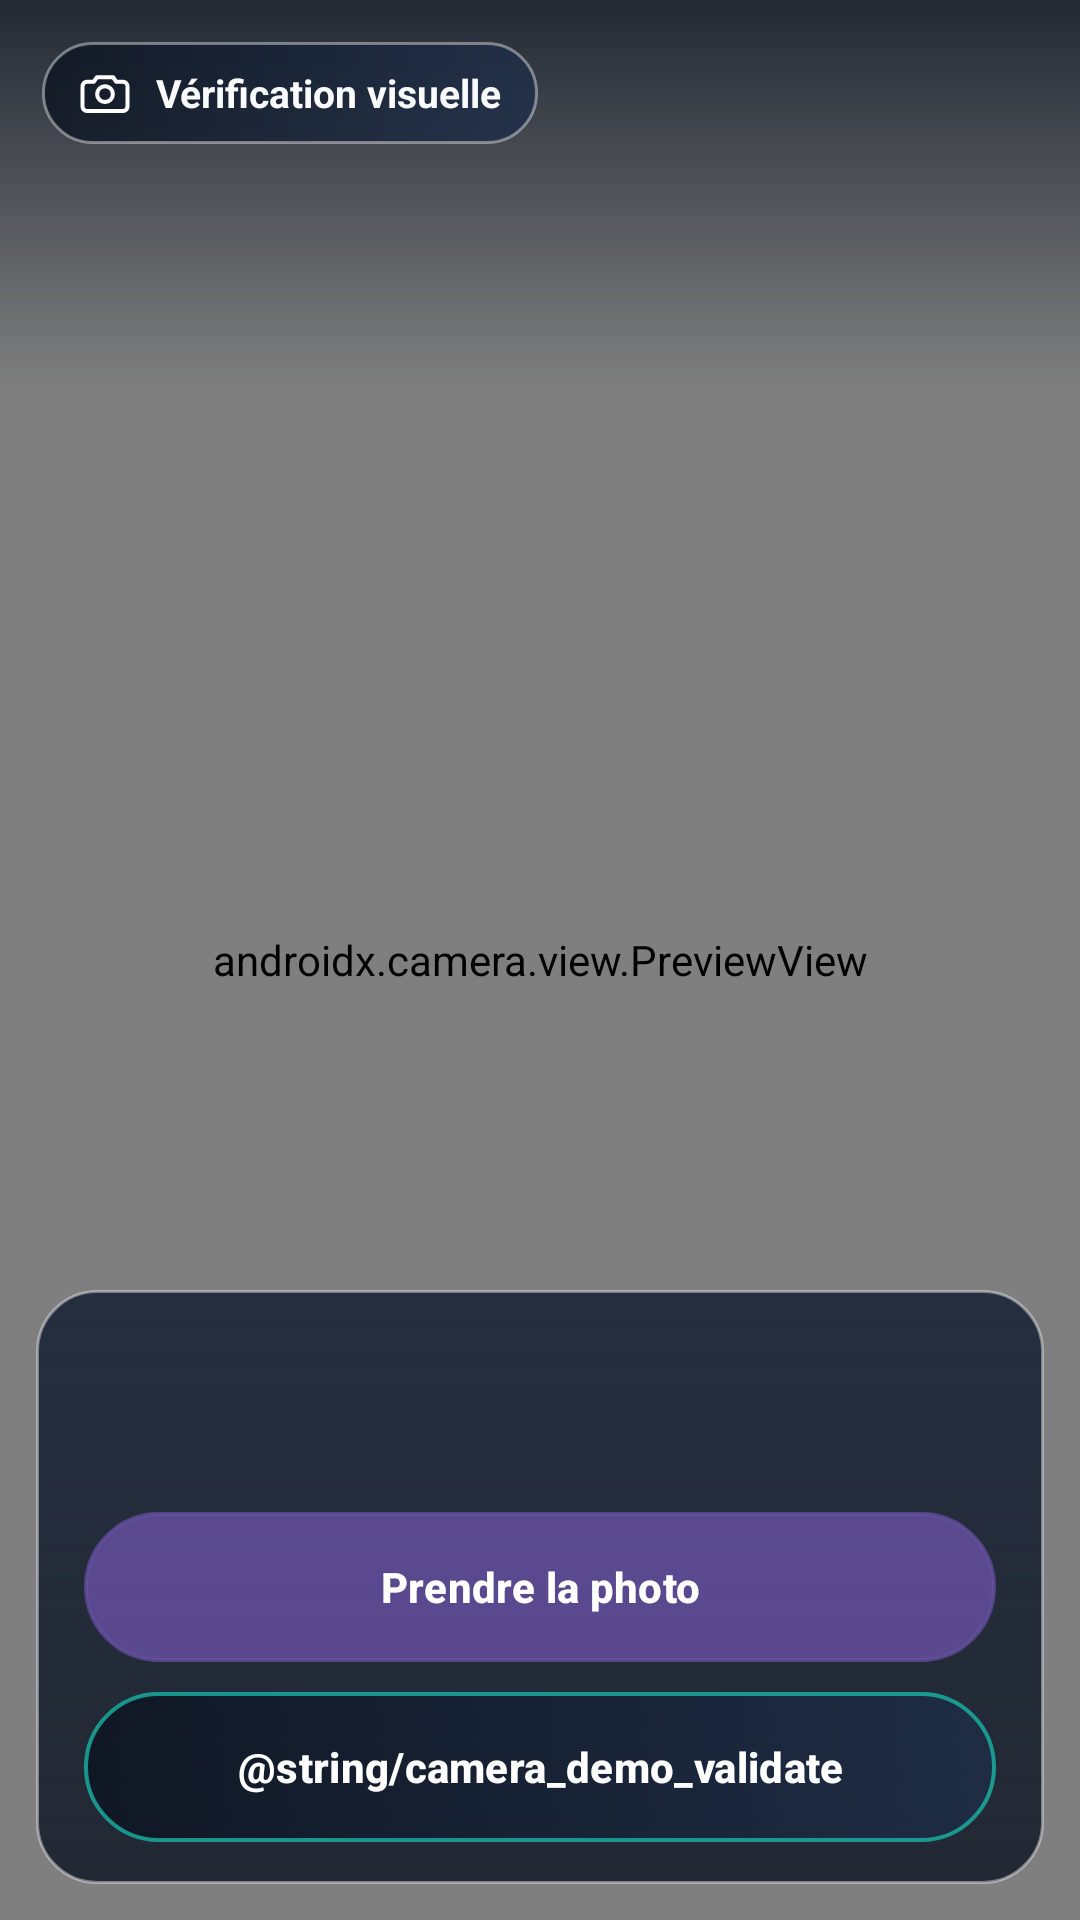

Point at icon controls on the screen. Image size 1080px x 1920px, points as (x,y).
camera line: (105,94)
